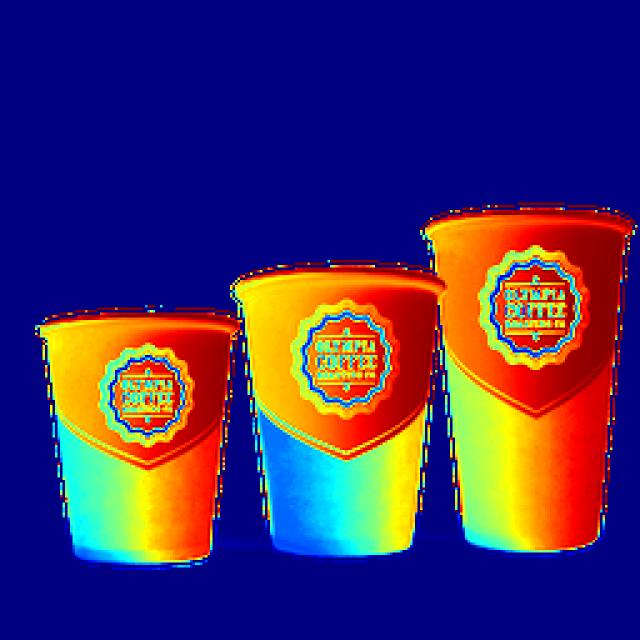Paper Cups: (430, 192, 640, 560), (32, 296, 261, 564), (242, 262, 438, 568)
